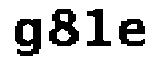1: (85, 6, 113, 48)
8: (48, 6, 80, 51)
e: (116, 16, 147, 50)
g: (9, 15, 44, 59)
